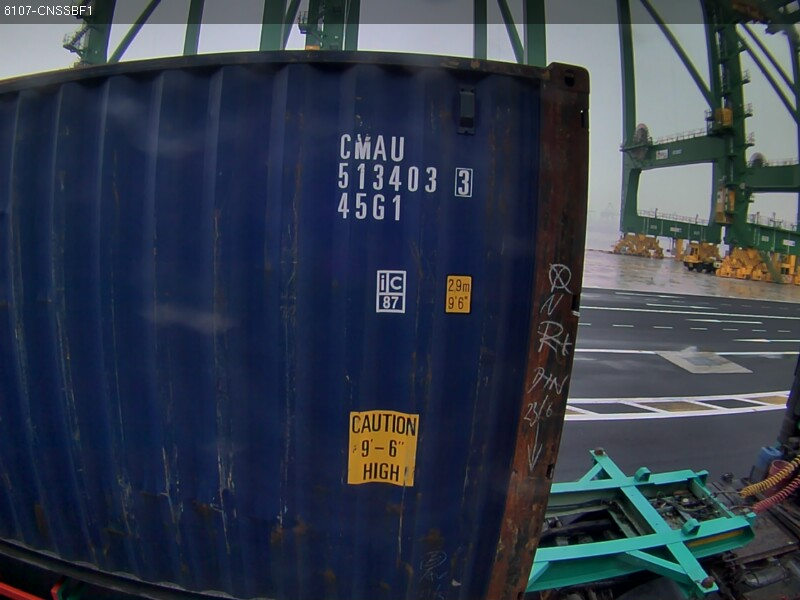container_no_door: (159, 88, 566, 573)
